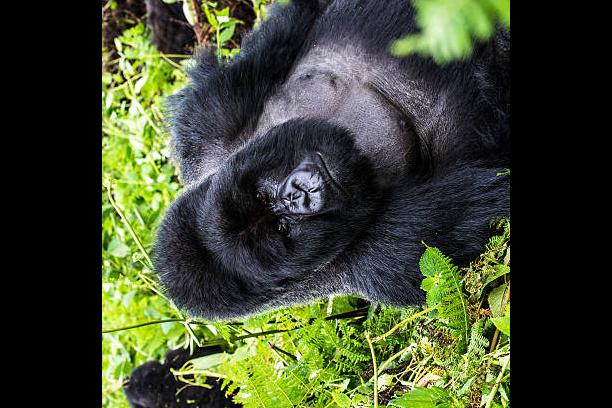goriile_montagne: (151, 0, 510, 332)
